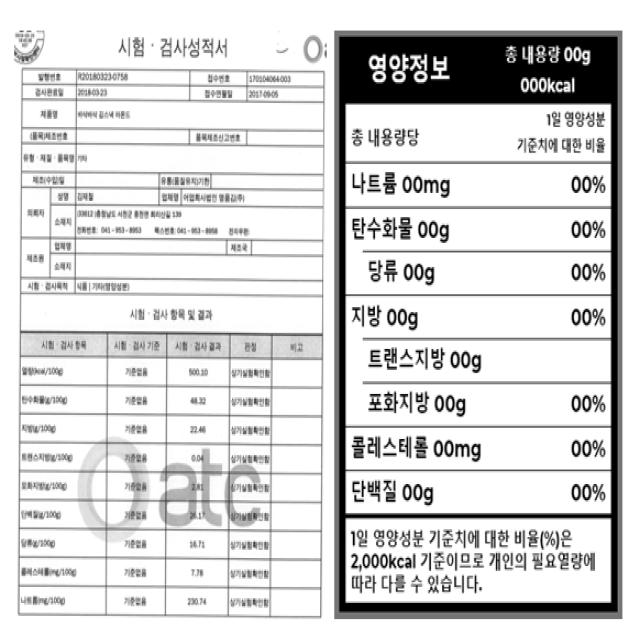Nutrition Label: (330, 9, 636, 623)
